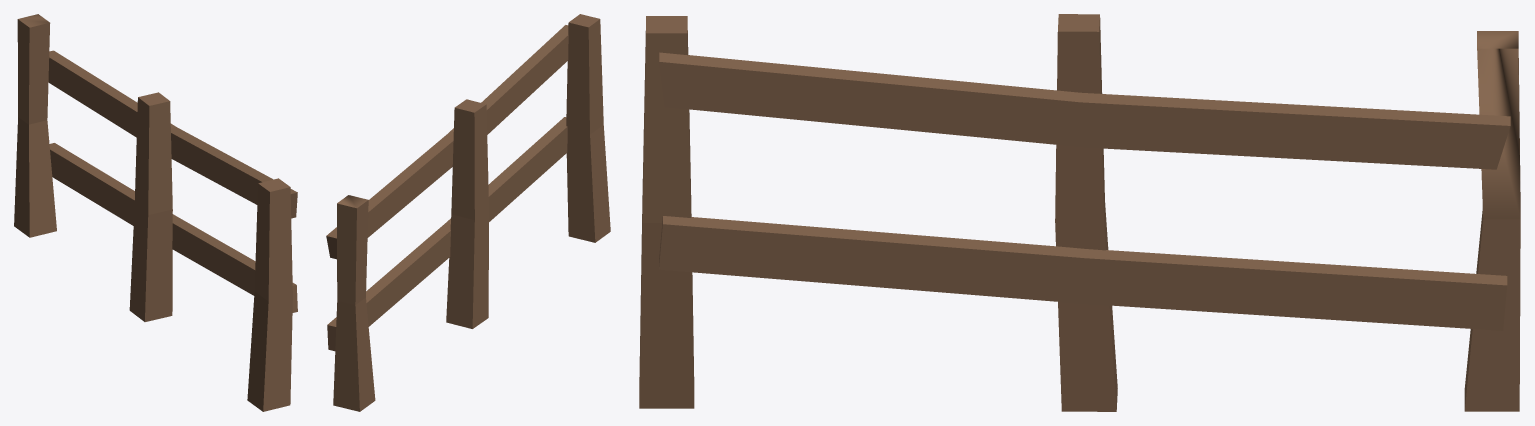
File: mesh_fence _1.fbx
3 views of the same model, side by side, from view 1: azimuth 30°, elevation 25°; view 2: azimuth 150°, elevation 25°; view 3: azimuth 270°, elevation 25° (orthographic). The views are drawn at different scales.
Visible parts, largest first — view 1: Fance _1; view 2: Fance _1; view 3: Fance _1.
Part boxes in pixels (box(x1,y1,x2,y2)): Fance _1: box(14, 14, 297, 411); Fance _1: box(326, 14, 610, 411); Fance _1: box(639, 14, 1520, 411).
Bounding box in the file's own units: 0.1441 × 0.7358 × 1.56.
